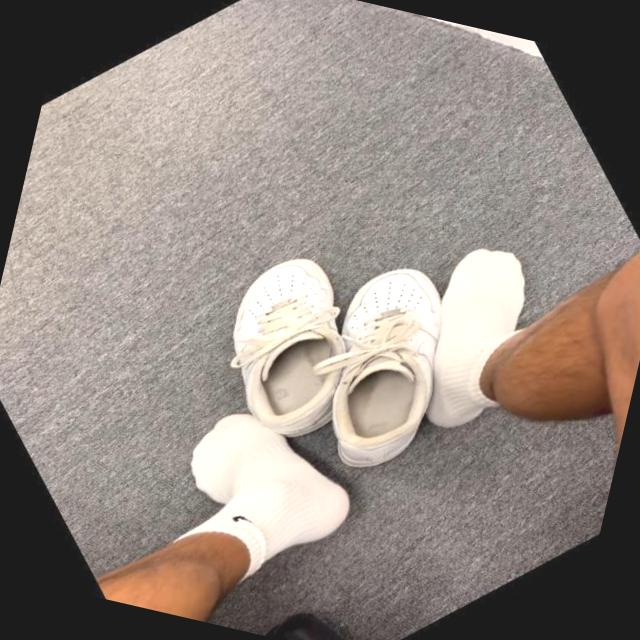nike_original_airforce: (248, 220, 536, 510), (162, 215, 424, 478)
